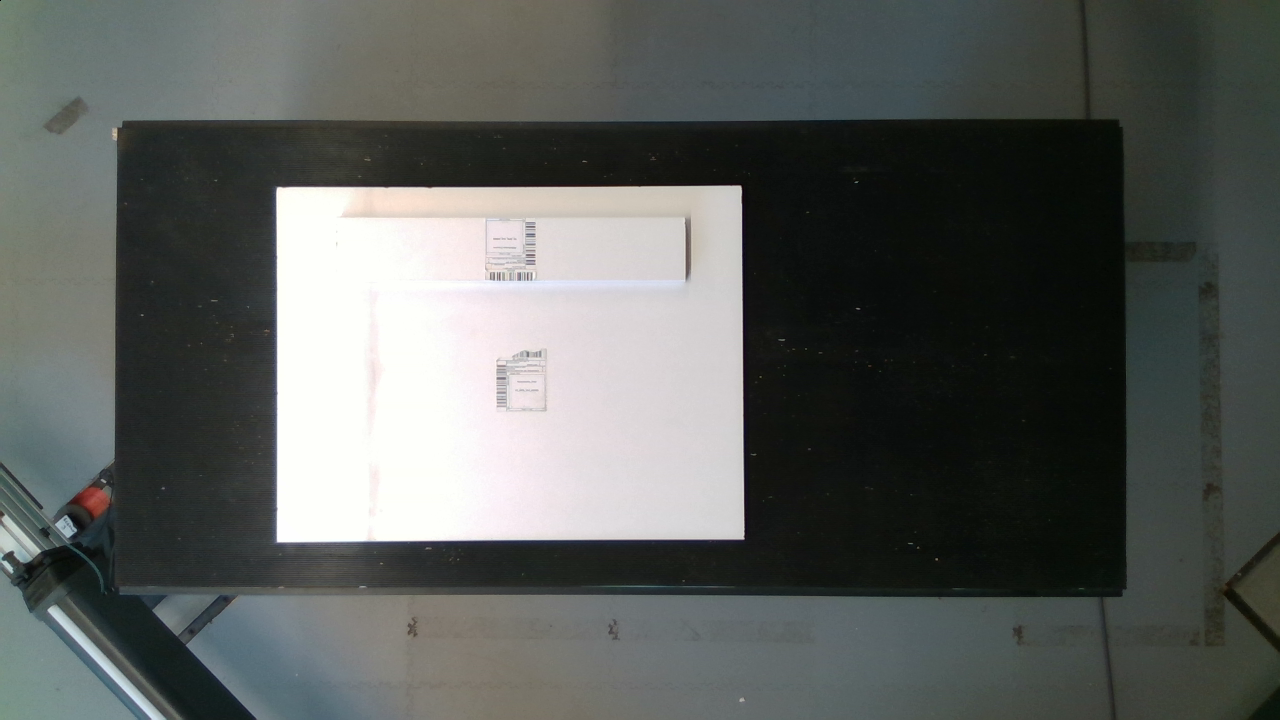barcode: (490, 337, 561, 421), (479, 213, 546, 281)
part1: (323, 211, 706, 294)
part2: (267, 177, 758, 550)
